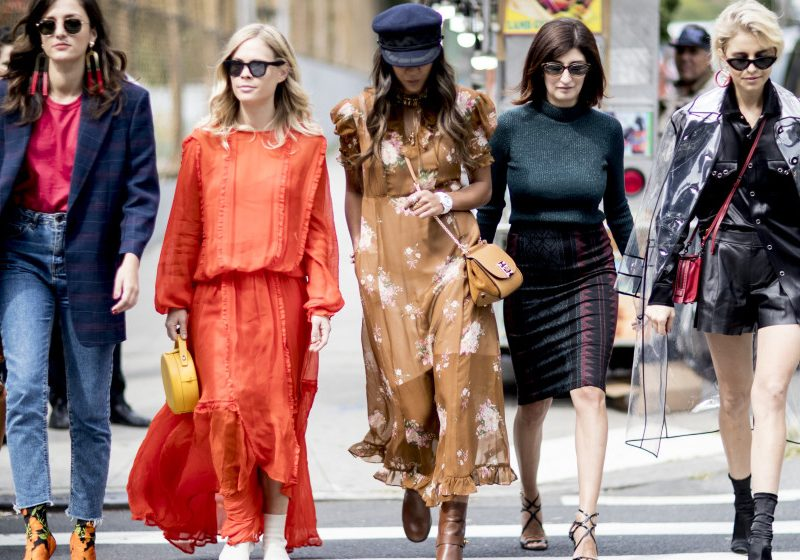Person: (321, 2, 538, 560), (152, 29, 347, 560), (475, 16, 652, 560), (4, 1, 162, 560), (647, 5, 786, 560)
